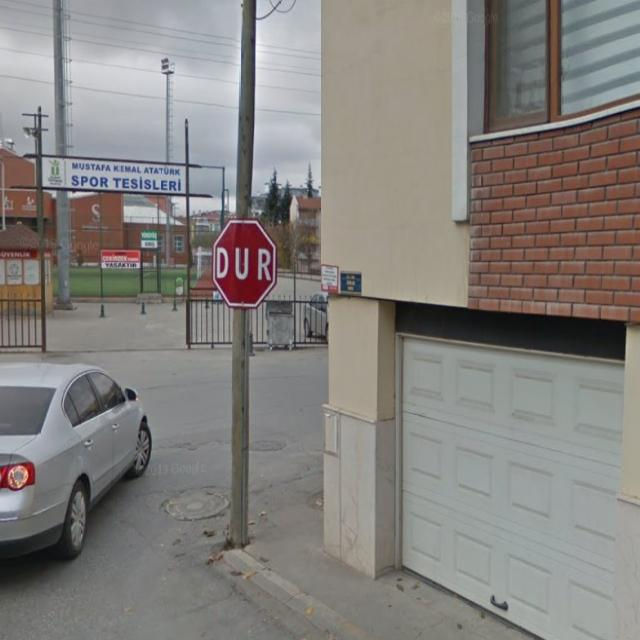dur: (213, 218, 278, 311)
